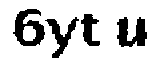6w: (9, 8, 46, 51)
t: (80, 7, 107, 51)
u: (117, 12, 152, 53)
y: (44, 14, 78, 60)
